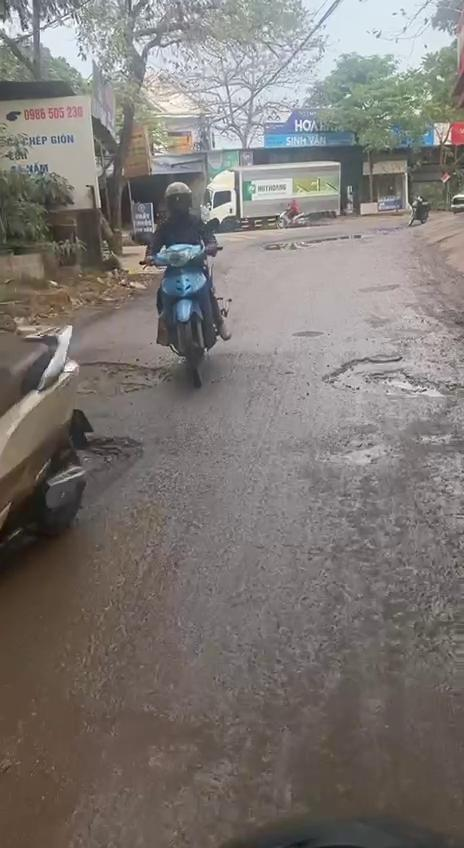pothole: (69, 425, 155, 512), (323, 352, 464, 404), (69, 358, 176, 396)
